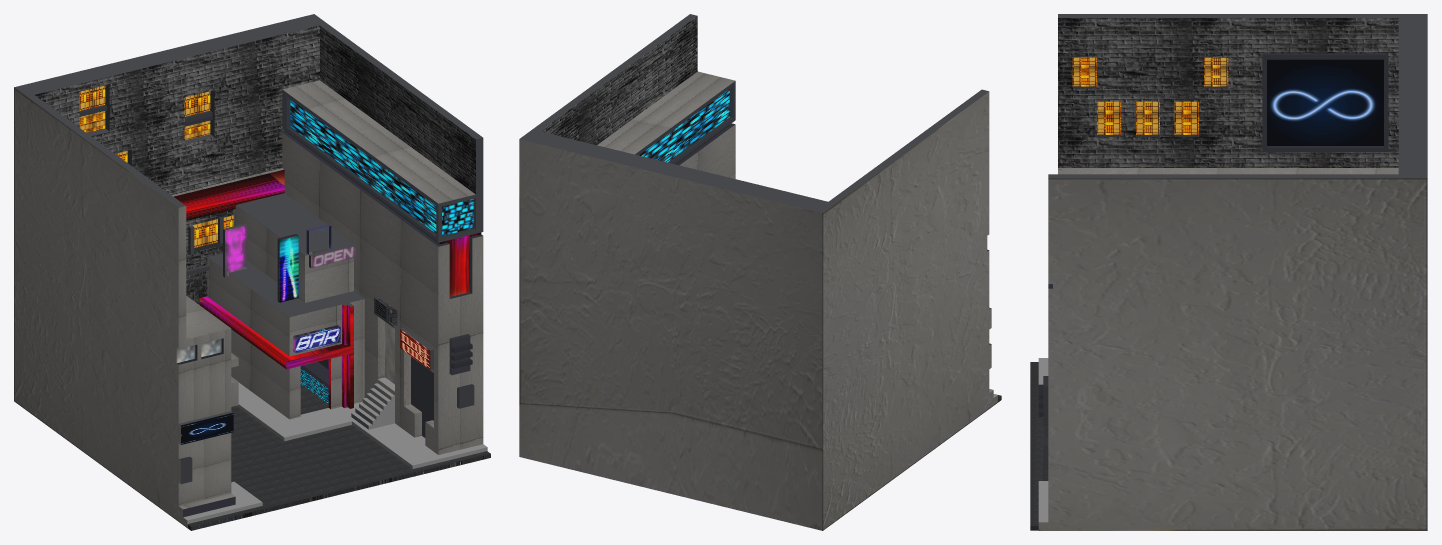
File: alley.glb
3 views of the same model, side by side, from view 1: azimuth 30°, elevation 25°; view 2: azimuth 150°, elevation 25°; view 3: azimuth 270°, elevation 25° (orthographic). The views are drawn at different scales.
Visible parts, largest first — view 1: Object_2, Object_21, Object_14, Object_17, Object_16, Object_3, Object_6, Object_8, Object_12, Object_18, Object_19, Object_13 (+3 smaller); view 2: Object_2, Object_21, Object_14, Object_6, Object_3; view 3: Object_2, Object_21, Object_9, Object_14, Object_8, Object_3, Object_16.
Part boxes in pixels (x1,y1,x2,y2): Object_2: (14,80,483,527); Object_21: (35,25,475,304); Object_14: (14,14,490,530); Object_17: (174,131,481,408); Object_16: (183,377,487,527); Object_3: (79,89,482,517); Object_6: (290,99,473,403); Object_8: (79,85,233,247); Object_12: (181,265,474,484); Object_18: (279,235,298,302); Object_19: (225,225,339,352); Object_13: (176,322,394,384); Object_2: (519,71,997,530); Object_21: (540,16,697,145); Object_14: (519,14,1001,402); Object_6: (639,89,729,162); Object_3: (635,81,990,345); Object_2: (1038,168,1427,530); Object_21: (1058,18,1398,167); Object_9: (1267,59,1383,145); Object_14: (1030,14,1427,530); Object_8: (1072,57,1228,134); Object_3: (1038,53,1388,445); Object_16: (1038,358,1048,522).
Bounding box in the file's own units: 13.2 × 13.2 × 13.48.
Materials: 19 (19 with a texture image).
